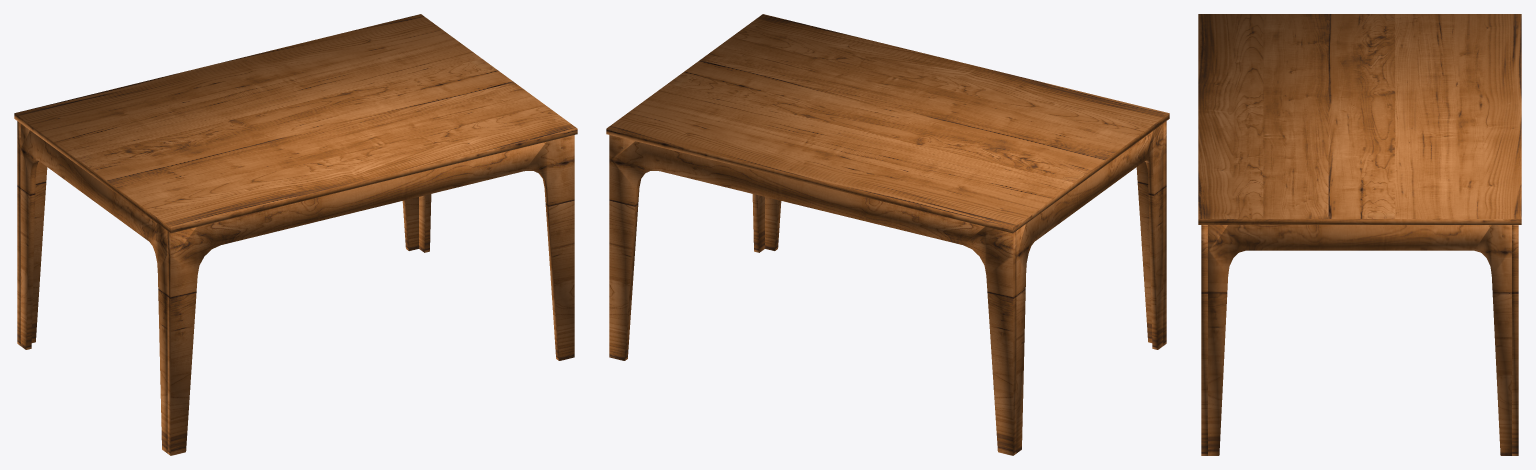
File: dinningTable.fbx
The picture shows the model from 3 angles, left to right: view 1: azimuth 30°, elevation 25°; view 2: azimuth 150°, elevation 25°; view 3: azimuth 270°, elevation 25°; orthographic projection. The views are drawn at different scales.
Visible parts, largest first — view 1: Cube.001; view 2: Cube.001; view 3: Cube.001.
Part boxes in pixels (x1,y1,x2,y2): Cube.001: [14, 14, 577, 455]; Cube.001: [606, 14, 1169, 455]; Cube.001: [1198, 14, 1521, 455].
Size of the model in its own units: 150 by 81 by 100.
